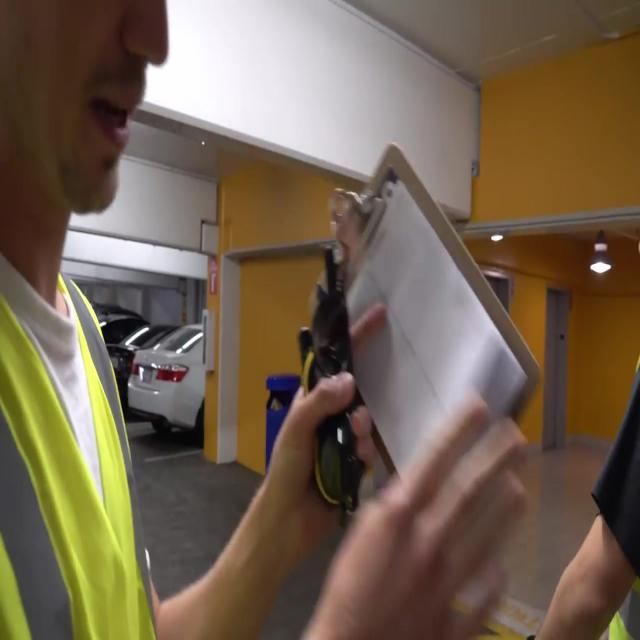Reflective-Jacket: (2, 236, 159, 640)
